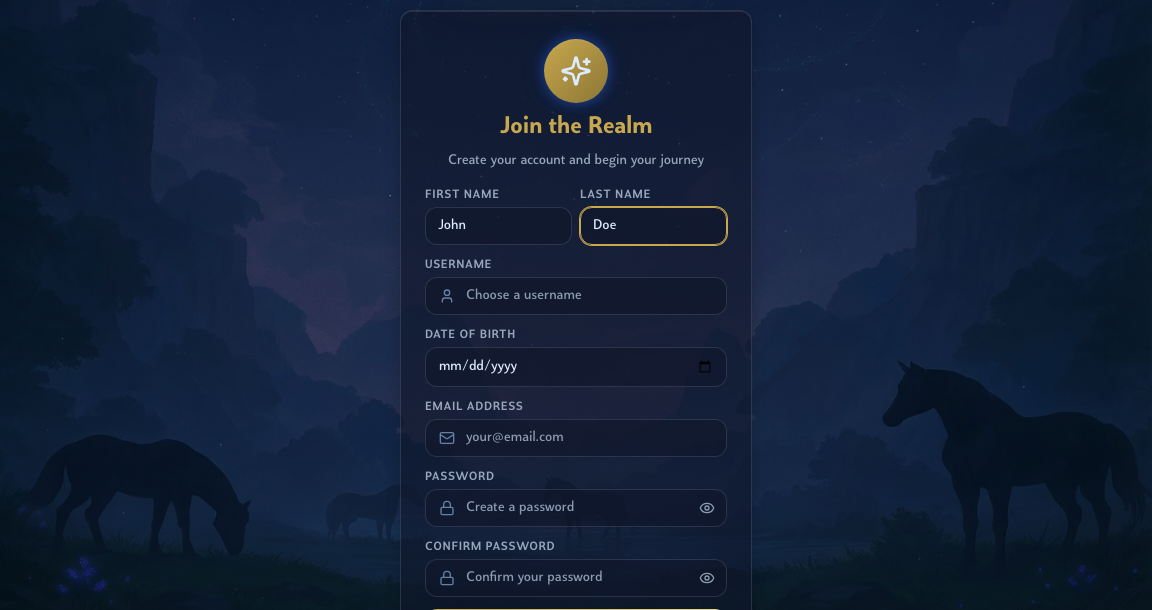
Test: RegisterPage › AC-2: Client-Side Validation › shows error for short password
Earlier steps of the test are not shown.
In the field labelled "Username": (576,296) [425,277,727,315], type "johndoe"
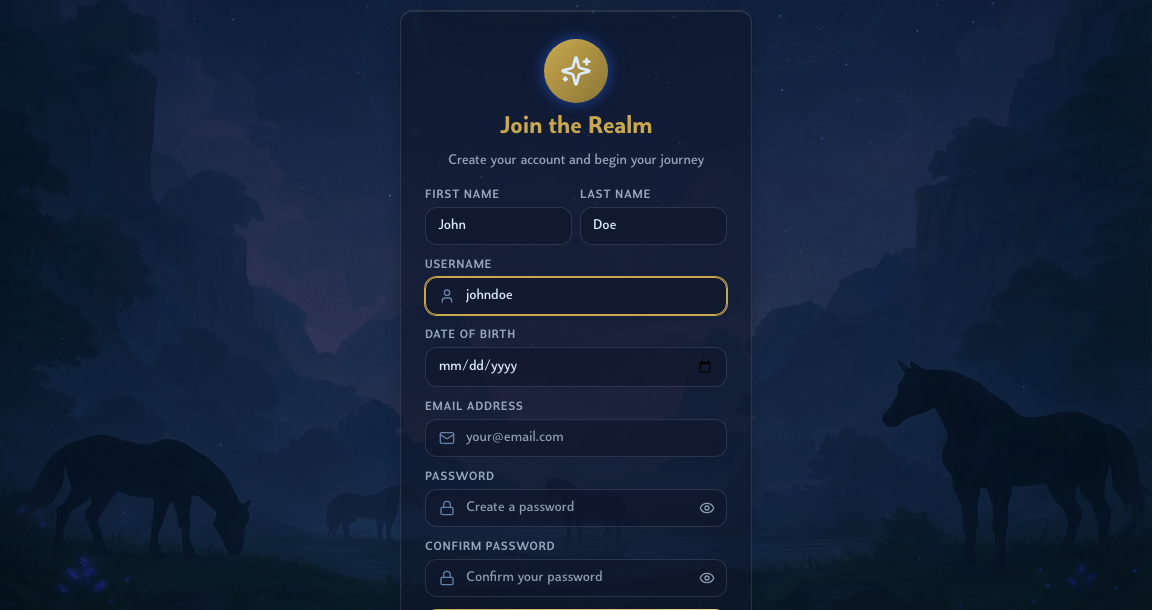
In the field labelled "Email Address": (576,438) [425,419,727,457], type "john@example.com"
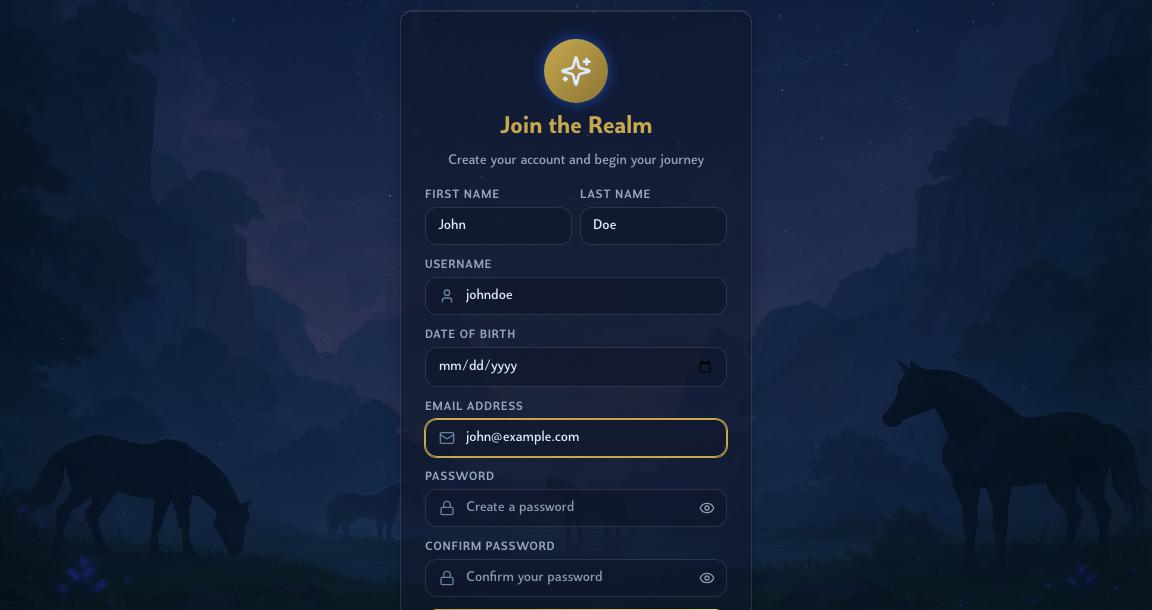
In the password field labelled "Password": (576,508) [425,489,727,527], type "Sh0@t1"
(page scrolled)
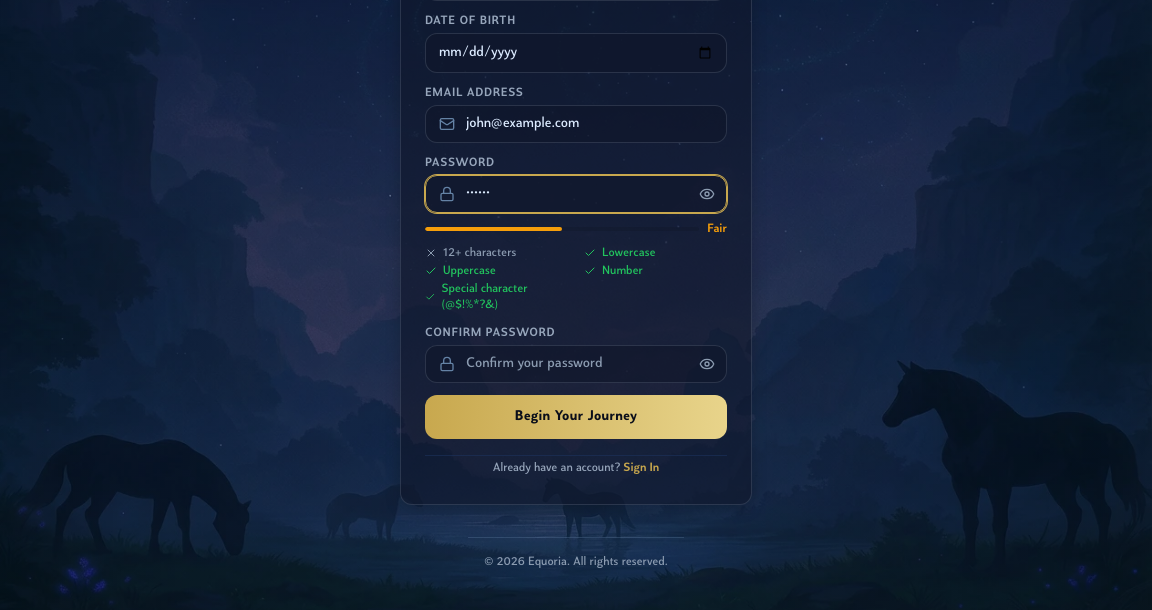
In the password field labelled "Confirm Password": (576,364) [425,345,727,383], type "Sh0@t1"
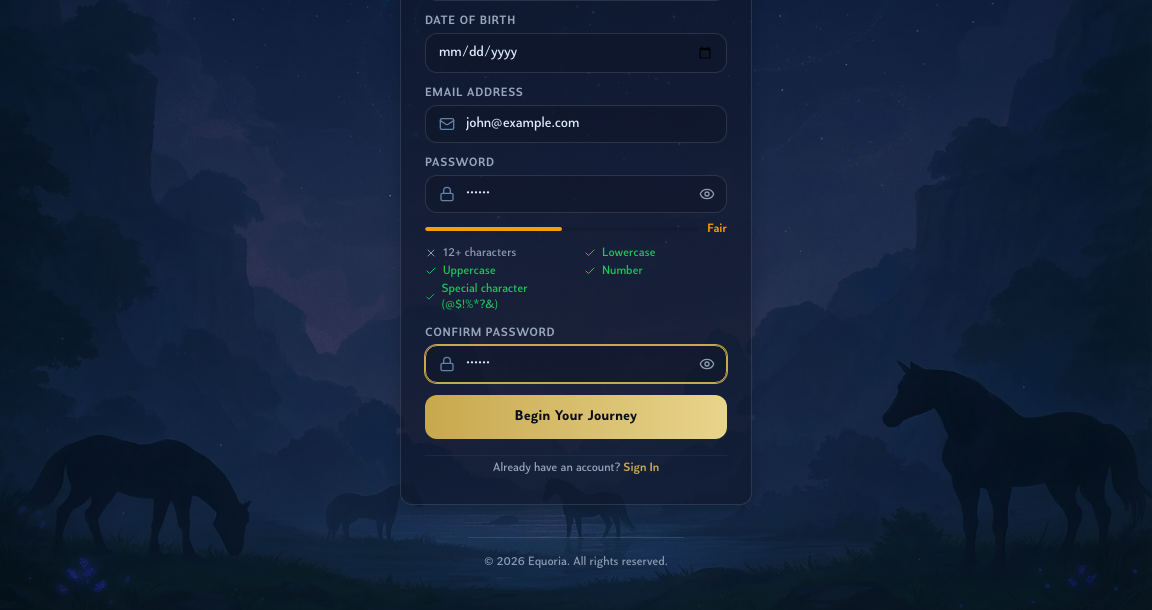
In the date field labelled "Date of Birth": (576,53) [425,33,727,73], type "1990-01-01"
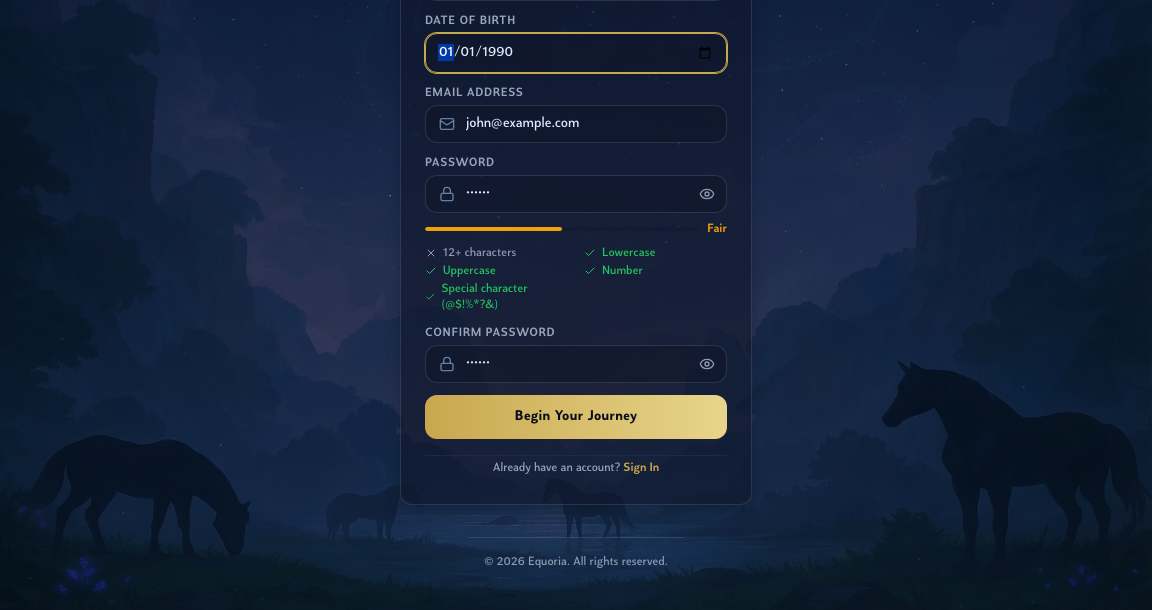
Click the button "Begin Your Journey": (576,417) [425,395,727,439]
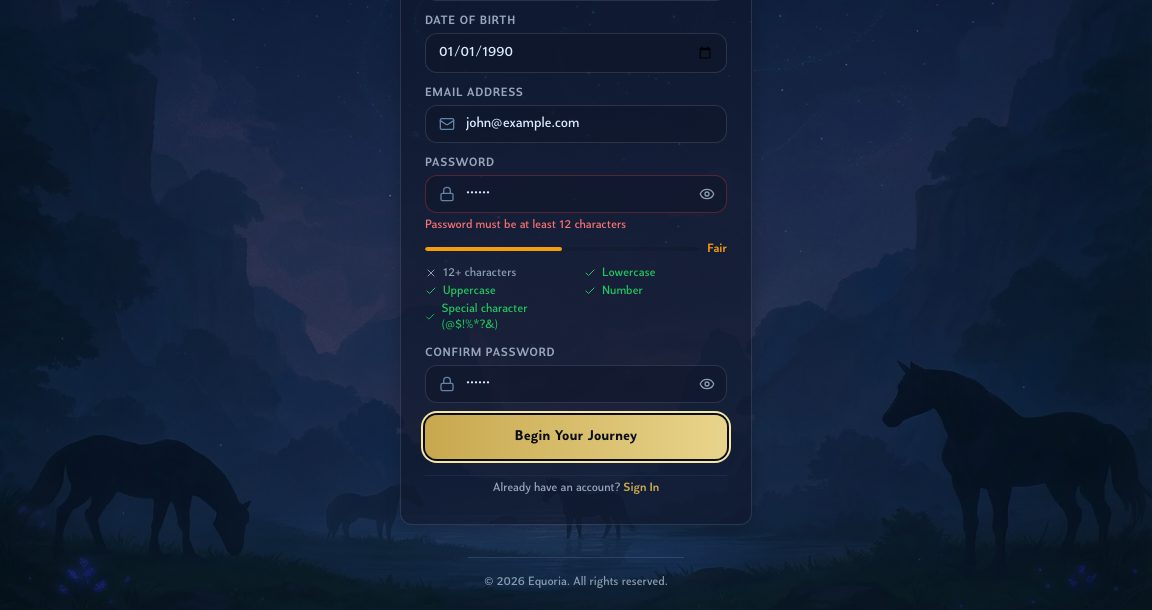
Result: the text "Password must be at least 12 characters" is shown at [425,219,626,231]
